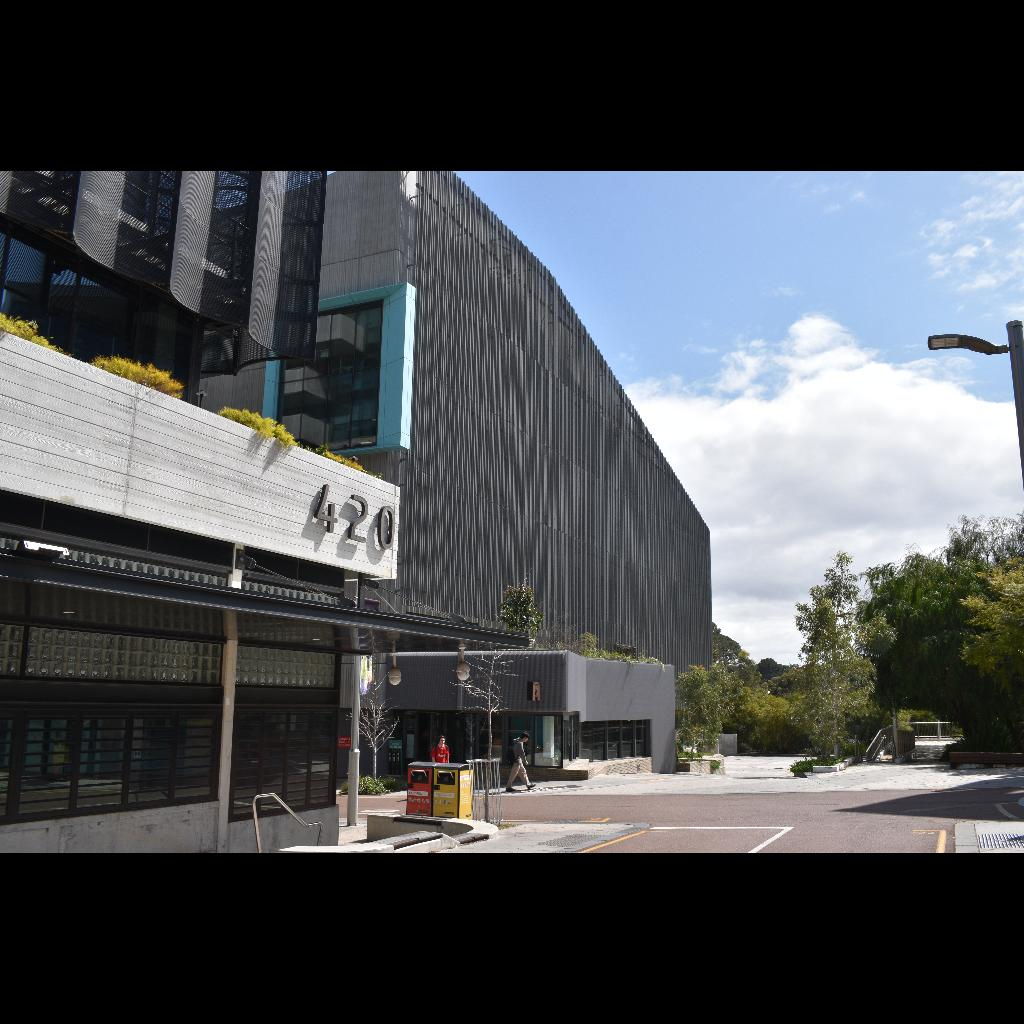BuildingCodes: (308, 480, 398, 554)
